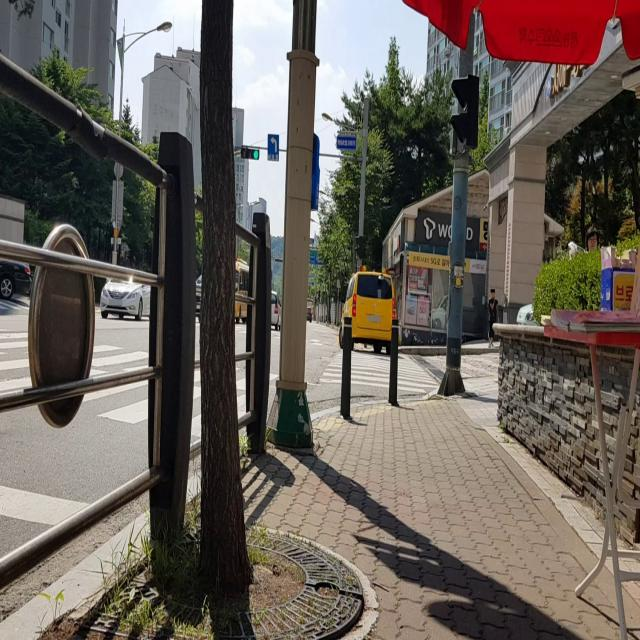횡단보도: (318, 348, 440, 394)
